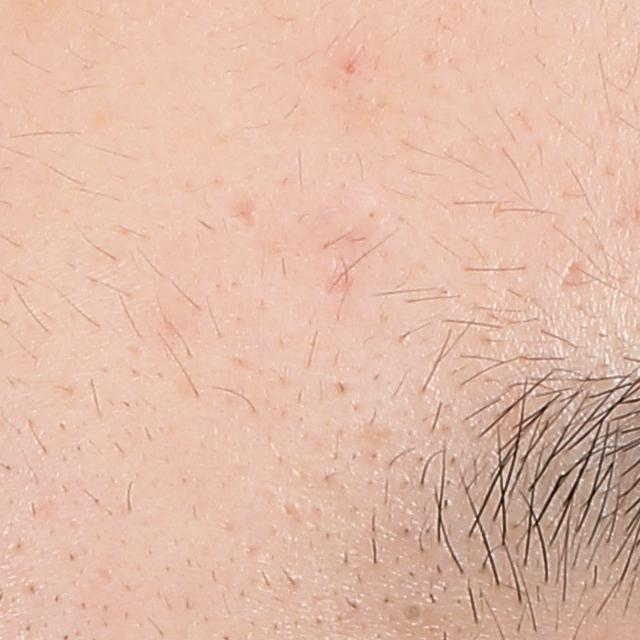atrophic_scar: (319, 255, 359, 304), (558, 257, 599, 290), (229, 196, 261, 230)
comedo: (362, 204, 381, 225)
